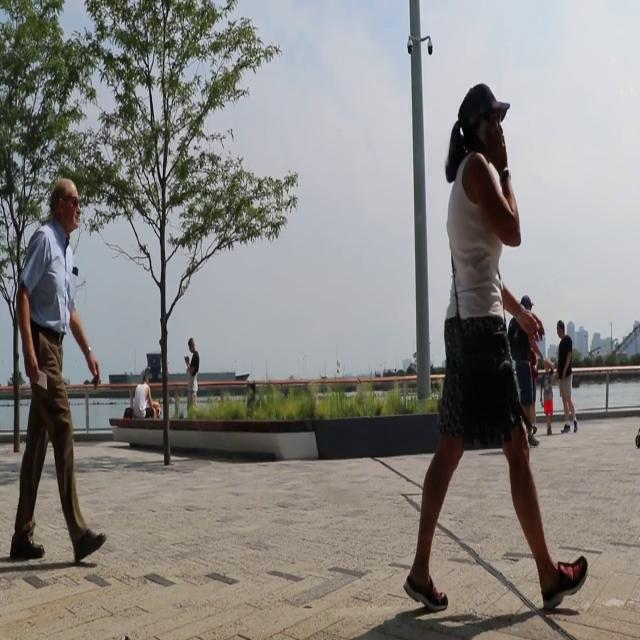normal: (405, 79, 589, 621), (6, 173, 110, 567)
